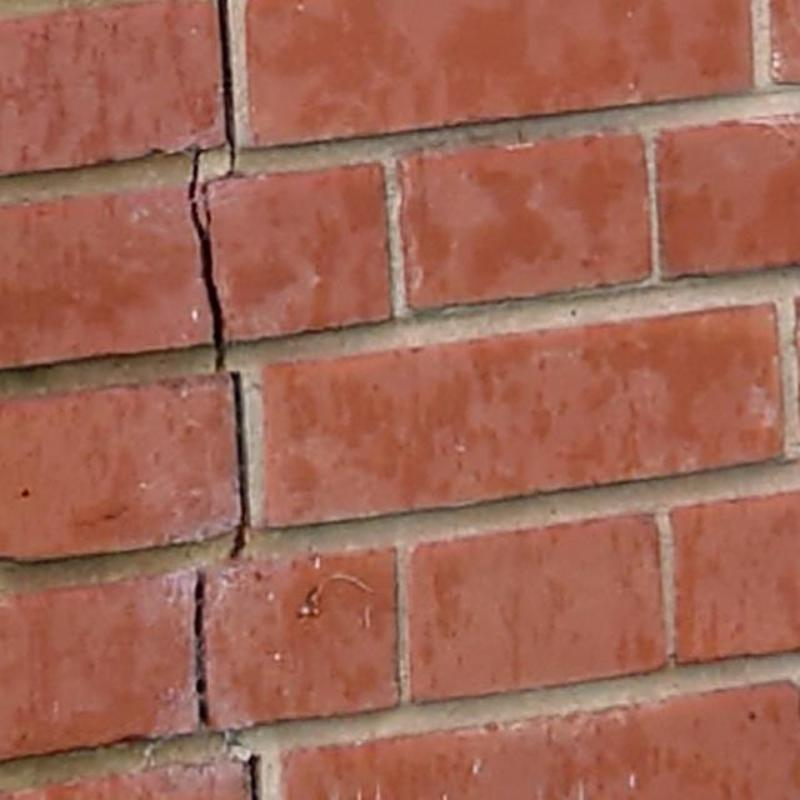pothole: (192, 203, 228, 373), (230, 372, 250, 558), (218, 0, 234, 175), (195, 570, 208, 727), (189, 149, 208, 199), (248, 755, 261, 800)
